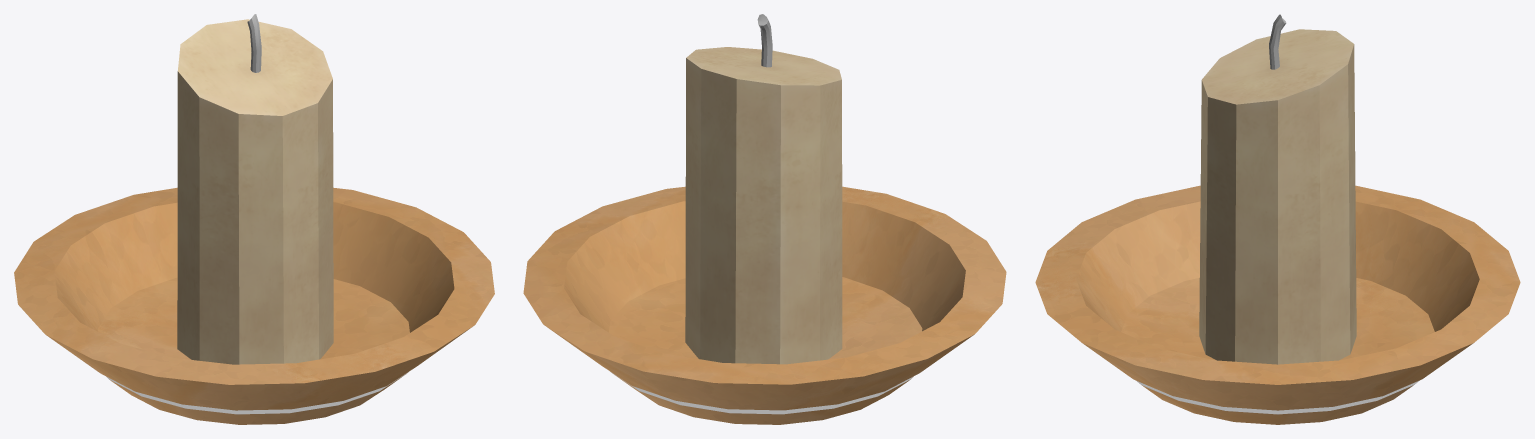
File: PR_Candle_T.fbx
3 renders of one model, left to right at view 1: azimuth 30°, elevation 25°; view 2: azimuth 150°, elevation 25°; view 3: azimuth 270°, elevation 25°, orthographic.
Parts seen in each view (by area): view 1: PR_Candle:Candle; view 2: PR_Candle:Candle; view 3: PR_Candle:Candle.
Part boxes in pixels (x1=…): PR_Candle:Candle: x1=14, y1=14, x2=494, y2=424; PR_Candle:Candle: x1=523, y1=14, x2=1006, y2=424; PR_Candle:Candle: x1=1035, y1=14, x2=1520, y2=424.
Size of the model in its own units: 0.8482 by 0.6772 by 0.8482.
